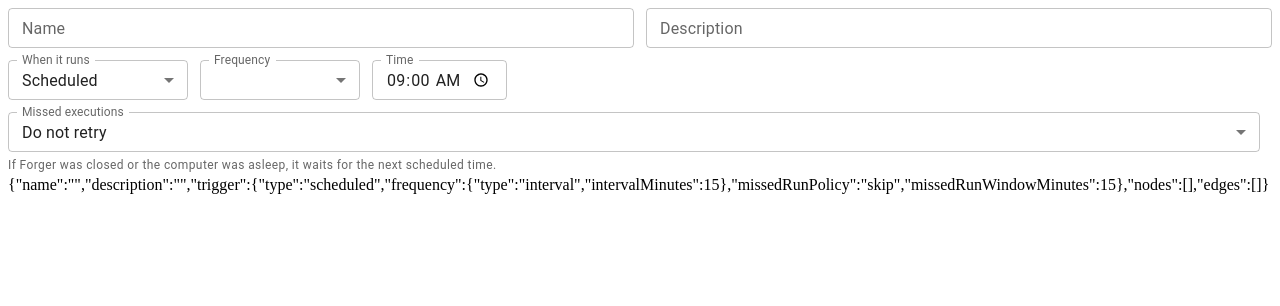
Test: WorkflowParamsForm › renders interval-compatible windows and each non-window missed-run policy
Expected: the text "If Forger was closed or the computer was asleep, it waits for the next scheduled time." is shown, [8,158,496,172]
Expected: the dropdown labelled "Retry window" is not shown
Click the dropdown named "Missed executions" at coordinates (64, 132), box [22,122,107,142]
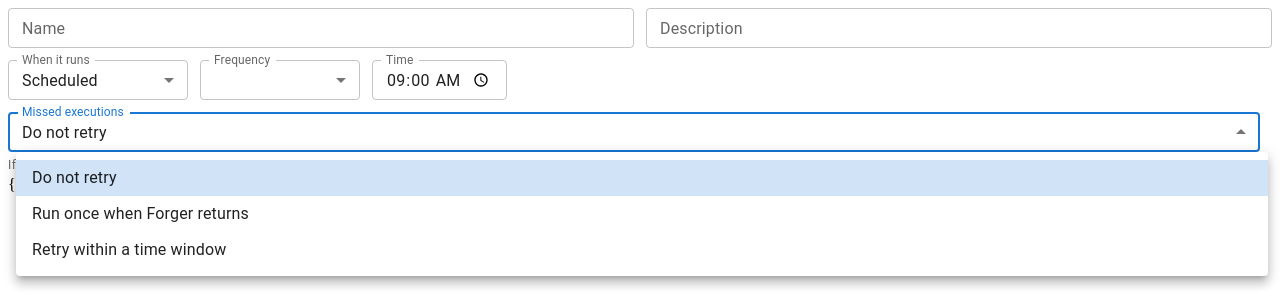
Click the option "Run once when Forger returns" at coordinates (140, 214), box [32,204,249,223]
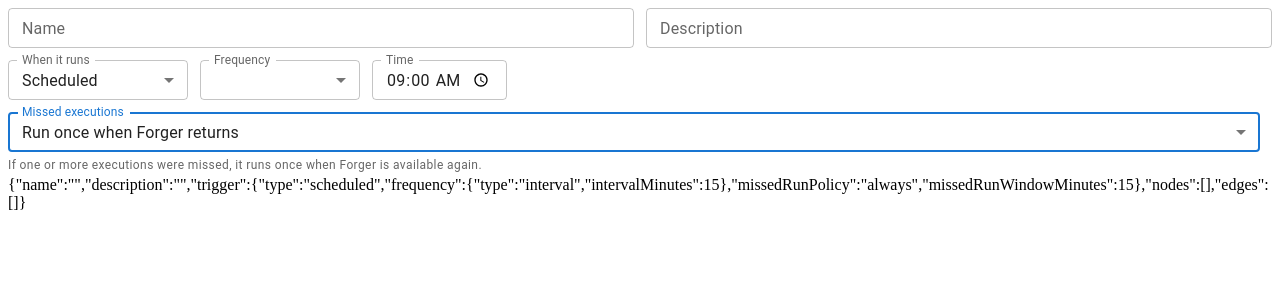
Expected: the text "If one or more executions were missed, it runs once when Forger is available again." is shown, [8,158,482,172]
Click the dropdown named "Missed executions" at coordinates (130, 132), box [22,122,239,142]
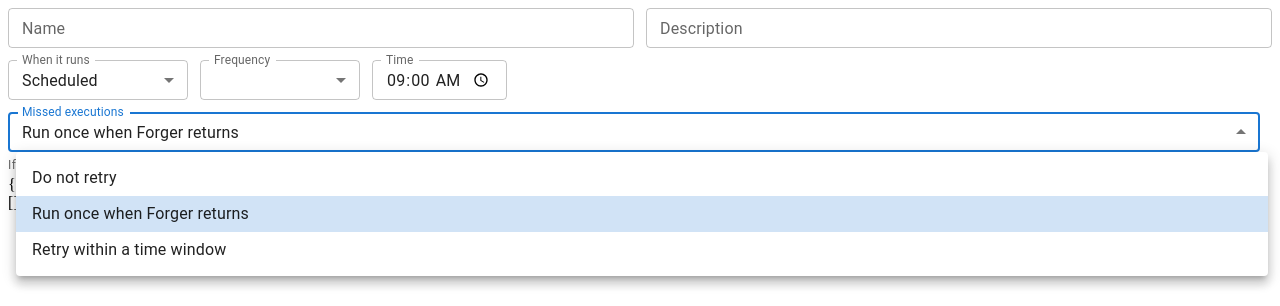
Click the option "Retry within a time window" at coordinates (129, 250), box [32,240,226,259]
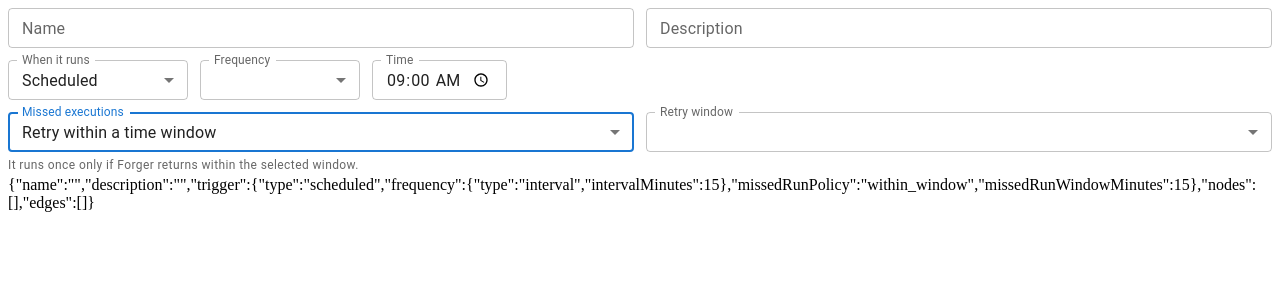
Expected: the dropdown named "Retry window" next to "Retry window" is shown, [646,112,1272,152]
